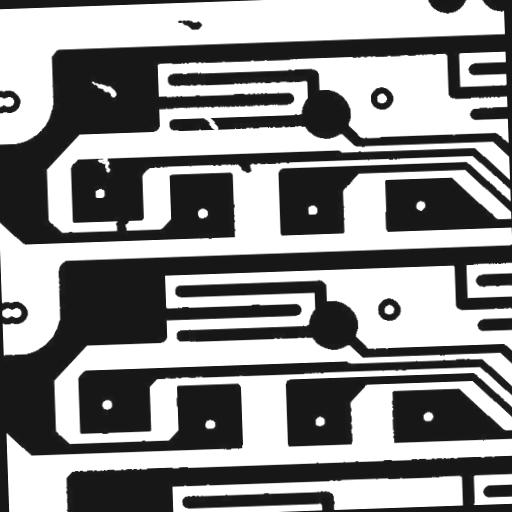copper: (169, 11, 209, 37)
mousebite: (89, 146, 117, 180)
open: (194, 106, 227, 140)
pin-hole: (83, 72, 123, 104)
short: (108, 209, 136, 240)
spur: (229, 153, 259, 180)
